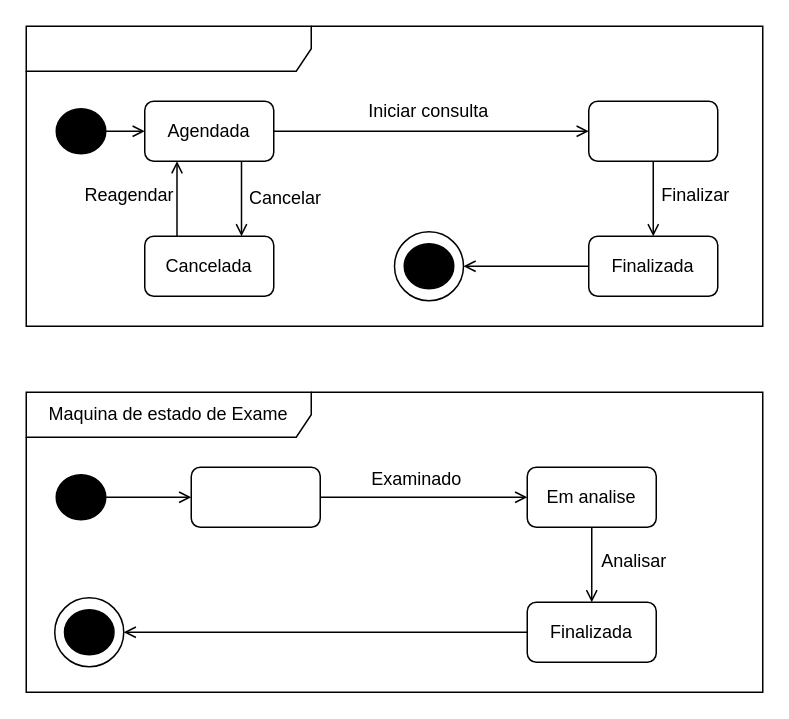
Some shapes in this 789 by 719 pixel diagram are drawn without their labels. Each missing label, with the box of its shape:
Coletado: (190, 466, 320, 527)
Iniciada: (587, 100, 718, 161)
Maquina de estado de Consulta: (25, 25, 763, 326)
